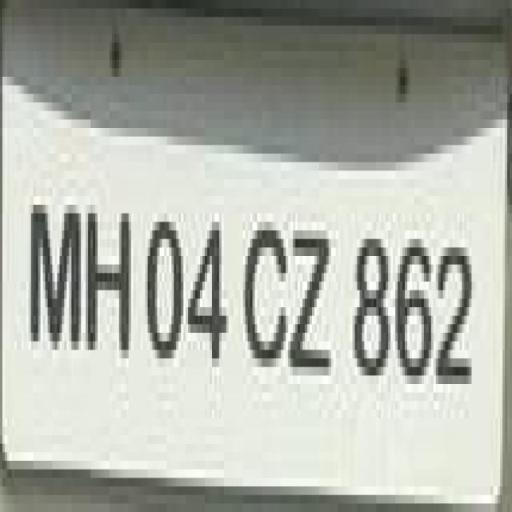number plate: (14, 102, 512, 512)
